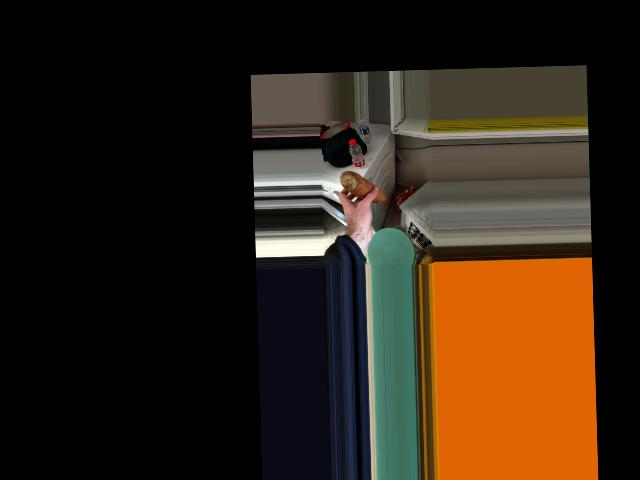sweet_potato: (340, 169, 386, 202)
